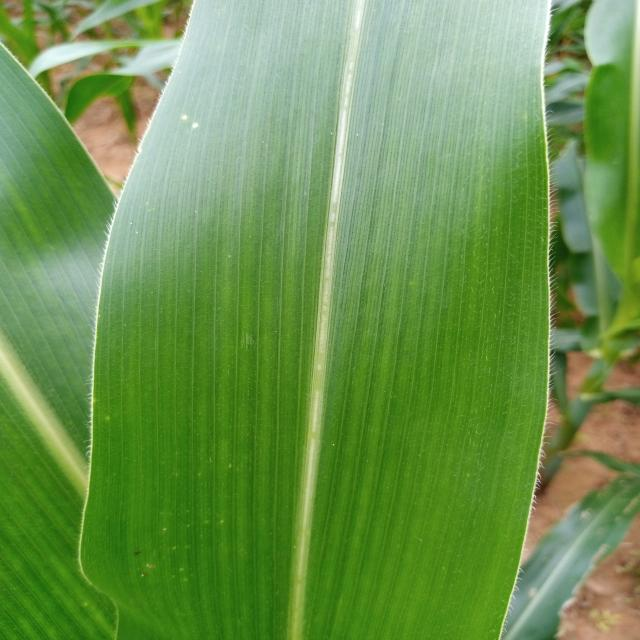healthy-maize: (186, 21, 516, 638)
